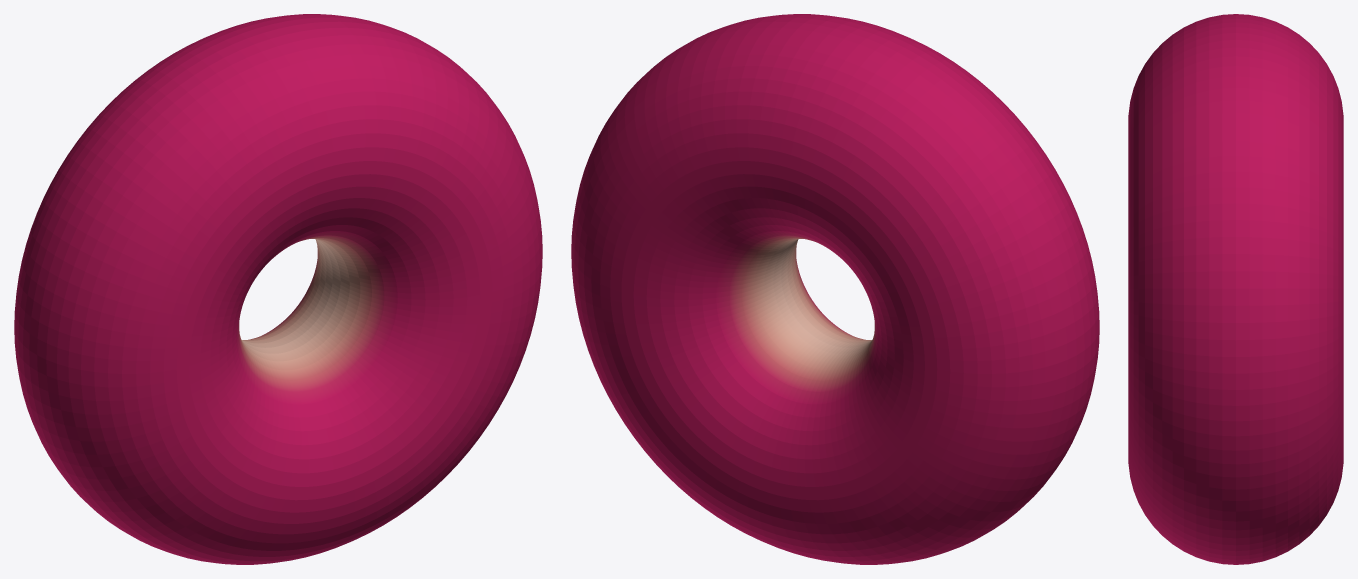
3 views of the same model, side by side, from view 1: azimuth 30°, elevation 25°; view 2: azimuth 150°, elevation 25°; view 3: azimuth 270°, elevation 25° (orthographic). The views are drawn at different scales.
Parts seen in each view (by area): view 1: world; view 2: world; view 3: world.
Boxes of the visible parts, left/top/right/bottom form: world: left=14, top=14, right=542, bottom=564; world: left=571, top=14, right=1099, bottom=564; world: left=1128, top=14, right=1343, bottom=564.
Size of the model in its own units: 20.8 by 20.8 by 8.12.
